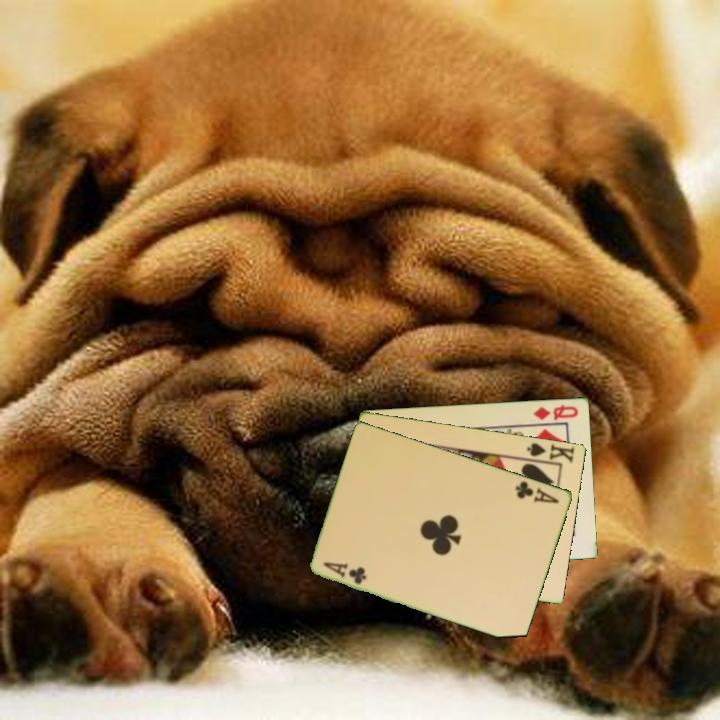Ac: (512, 477, 562, 506), (320, 558, 369, 587)
Ks: (521, 439, 578, 467)
Qd: (530, 401, 581, 423)
